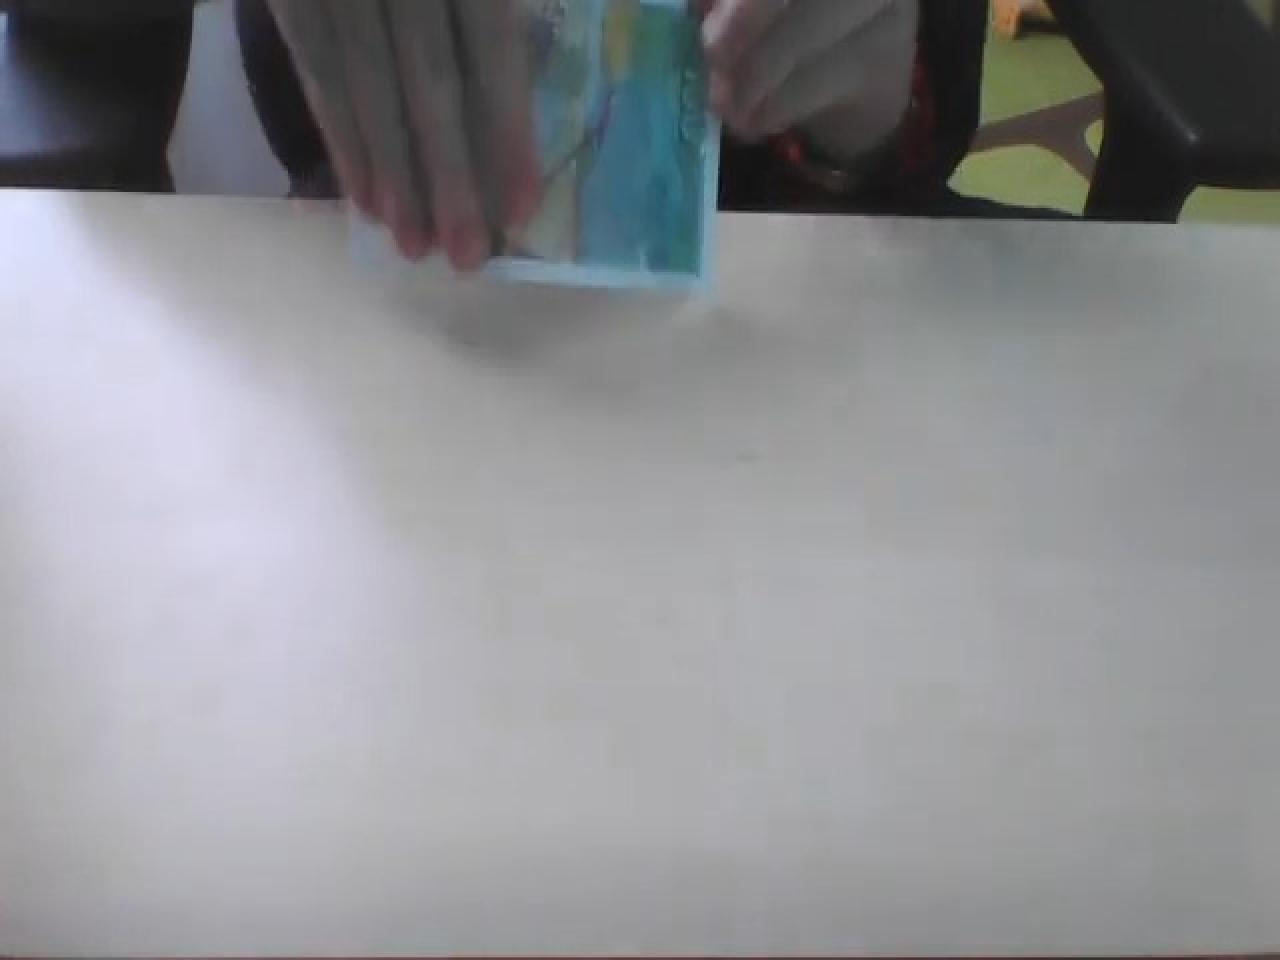100leva: (480, 0, 722, 293)
